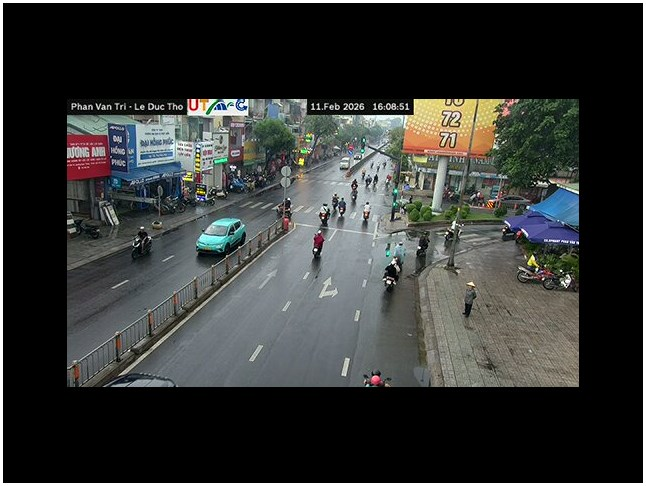car: (195, 217, 247, 257), (105, 372, 176, 386)
motorbike: (131, 227, 152, 262), (382, 263, 401, 292)
